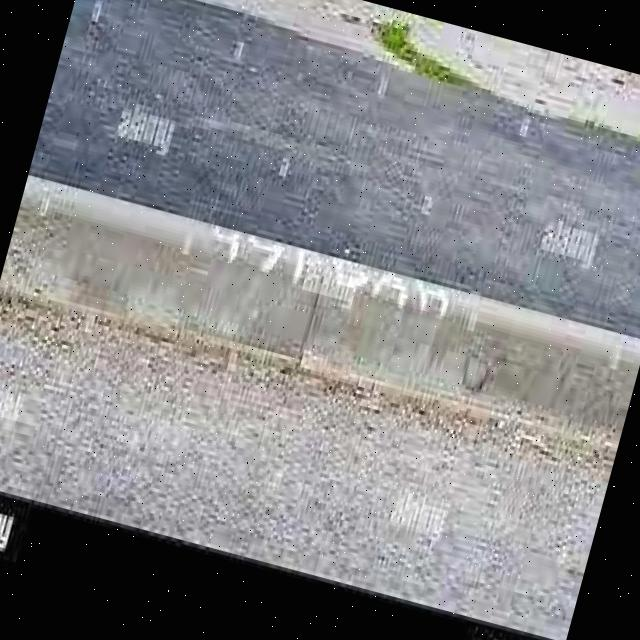curb: (1, 173, 640, 455)
